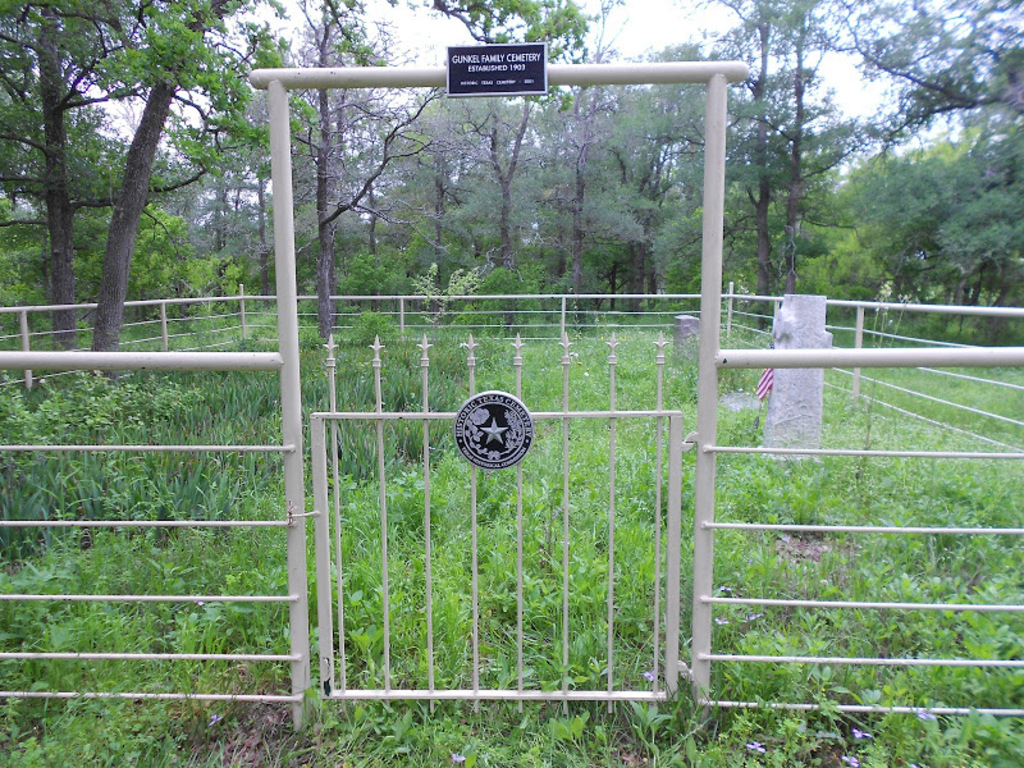Tree: (0, 0, 1023, 404)
